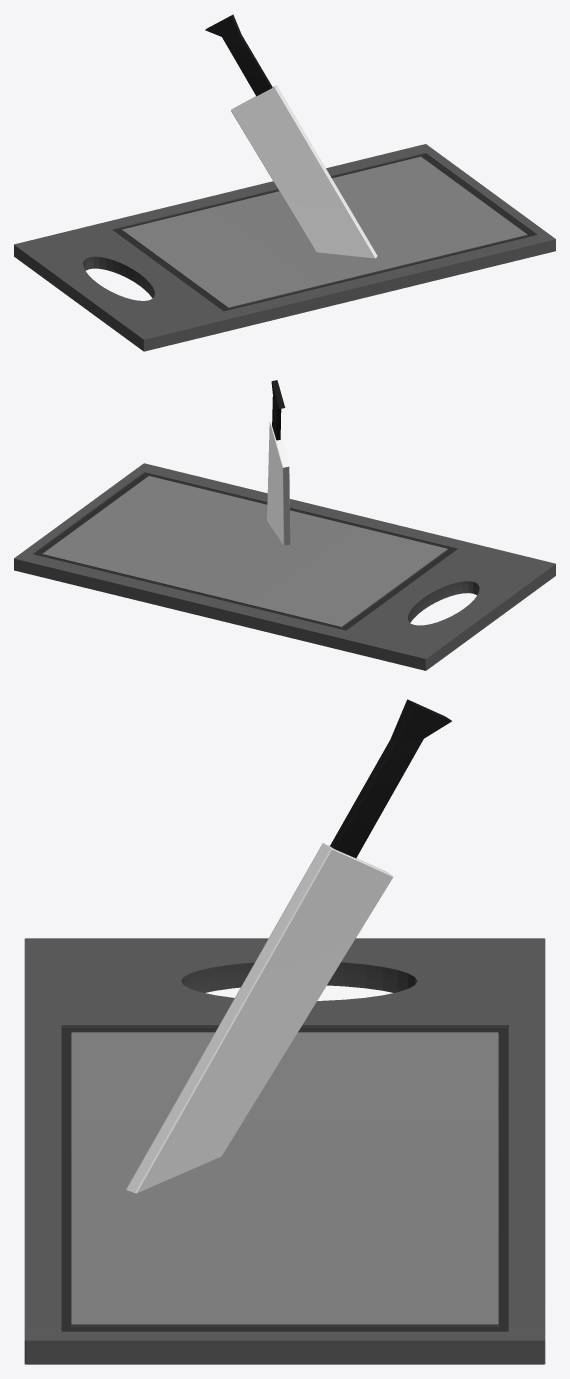
The model's file is CuttingBoardModel.fbx.
3 renders of one model, top to bottom at view 1: azimuth 30°, elevation 25°; view 2: azimuth 150°, elevation 25°; view 3: azimuth 270°, elevation 25°, orthographic. The views are drawn at different scales.
Visible parts, largest first — view 1: CuttingBoardModel; view 2: CuttingBoardModel; view 3: CuttingBoardModel.
Boxes of the visible parts, <box> form: CuttingBoardModel: <box>14,14,555,351</box>; CuttingBoardModel: <box>14,380,555,670</box>; CuttingBoardModel: <box>24,699,545,1364</box>.
Bounding box in the file's own units: 104 × 53.46 × 57.14.
